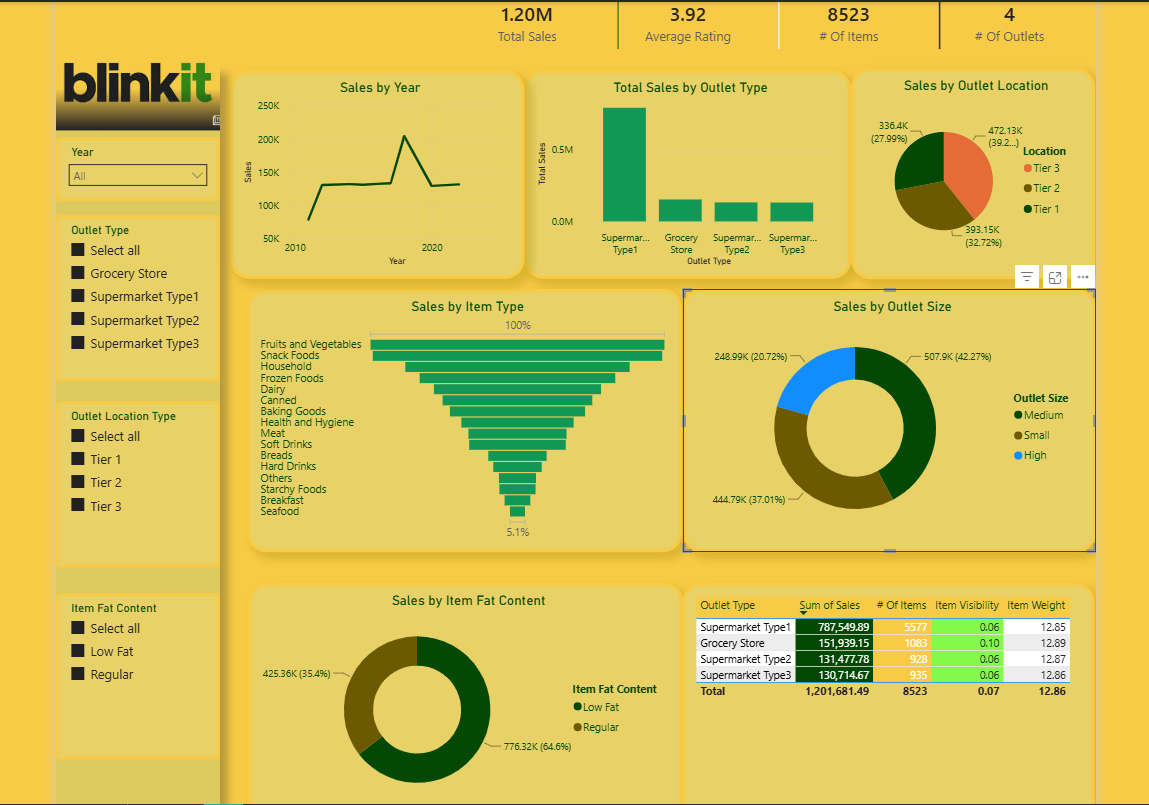

This screenshot's page, from the dashboard's own definition file:
{"tool":"powerbi","page":{"name":"Page 1","canvas":[1300,1050],"ordinal":0},"visuals":[{"type":"cardVisual","fields":{"Data":["Sum(BlinkIT Grocery Data.Sales)","Avg(BlinkIT Grocery Data.Rating)","CountNonNull(BlinkIT Grocery Data.Item Identifier)","Count(BlinkIT Grocery Data.Outlet Type)"]},"box":[483,0,817,103.5],"z":0},{"type":"clusteredColumnChart","fields":{"Category":["BlinkIT Grocery Data.Outlet Type"],"Y":["Sum(BlinkIT Grocery Data.Sales)"]},"box":[585,111.2,408.8,261.2],"z":1000},{"type":"funnel","title":"Sales by Item Type","fields":{"Category":["BlinkIT Grocery Data.Item Type"],"Y":["Sum(BlinkIT Grocery Data.Sales)"]},"box":[238.8,385,543.8,328.8],"z":2000},{"type":"lineChart","fields":{"Category":["BlinkIT Grocery Data.Outlet Establishment Year"],"Y":["Sum(BlinkIT Grocery Data.Sales)"]},"box":[240,111.2,345,261.2],"z":3000},{"type":"pieChart","title":"Sales by Outlet Location","fields":{"Category":["BlinkIT Grocery Data.Outlet Location Type"],"Y":["Sum(BlinkIT Grocery Data.Sales)"]},"box":[993.8,108.8,305,263.8],"z":4000},{"type":"shape","box":[0,111.2,205,940],"z":5000},{"type":"slicer","fields":{"Values":["BlinkIT Grocery Data.Outlet Establishment Year"]},"box":[0,195,205,80],"z":6000},{"type":"donutChart","title":"Sales by Outlet Size","fields":{"Category":["BlinkIT Grocery Data.Outlet Size"],"Y":["Sum(BlinkIT Grocery Data.Sales)"]},"box":[783.8,385,516.2,328.8],"z":7000},{"type":"slicer","fields":{"Values":["BlinkIT Grocery Data.Outlet Type"]},"box":[0,292.5,205,207.5],"z":8000},{"type":"donutChart","title":"Sales by Item Fat Content","fields":{"Category":["BlinkIT Grocery Data.Item Fat Content"],"Y":["Sum(BlinkIT Grocery Data.Sales)"]},"box":[240,752.5,543.8,297.5],"z":9000},{"type":"tableEx","fields":{"Values":["BlinkIT Grocery Data.Outlet Type","Sum(BlinkIT Grocery Data.Sales)","BlinkIT Grocery Data.Item Identifier","BlinkIT Grocery Data.Item Visibility","Avg(BlinkIT Grocery Data.Item Weight)"]},"box":[782.5,752.5,516.2,297.5],"z":10000},{"type":"slicer","fields":{"Values":["BlinkIT Grocery Data.Outlet Location Type"]},"box":[0,525,205,207.5],"z":10001},{"type":"slicer","fields":{"Values":["BlinkIT Grocery Data.Item Fat Content"]},"box":[0,765,205,207.5],"z":10002},{"type":"image","box":[0,23.8,205,211.2],"z":10003}]}

Visuals, with their boxes on the page's 1300x1050 design canvas (x1, y1, x2, y2). These are canvas units, not pixel positions in the 1149x805 screenshot, which may show the page scaled, cropped or inside an application window:
cardVisual - Sum(BlinkIT Grocery Data.Sales) x Avg(BlinkIT Grocery Data.Rating): [483,0,1300,104]
clusteredColumnChart - BlinkIT Grocery Data.Outlet Type x Sum(BlinkIT Grocery Data.Sales): [585,111,994,372]
"Sales by Item Type" funnel: [239,385,783,714]
lineChart - BlinkIT Grocery Data.Outlet Establishment Year x Sum(BlinkIT Grocery Data.Sales): [240,111,585,372]
"Sales by Outlet Location" pieChart: [994,109,1299,373]
shape: [0,111,205,1051]
slicer - BlinkIT Grocery Data.Outlet Establishment Year: [0,195,205,275]
"Sales by Outlet Size" donutChart: [784,385,1300,714]
slicer - BlinkIT Grocery Data.Outlet Type: [0,292,205,500]
"Sales by Item Fat Content" donutChart: [240,752,784,1050]
tableEx - BlinkIT Grocery Data.Outlet Type x Sum(BlinkIT Grocery Data.Sales): [782,752,1299,1050]
slicer - BlinkIT Grocery Data.Outlet Location Type: [0,525,205,732]
slicer - BlinkIT Grocery Data.Item Fat Content: [0,765,205,972]
image: [0,24,205,235]
